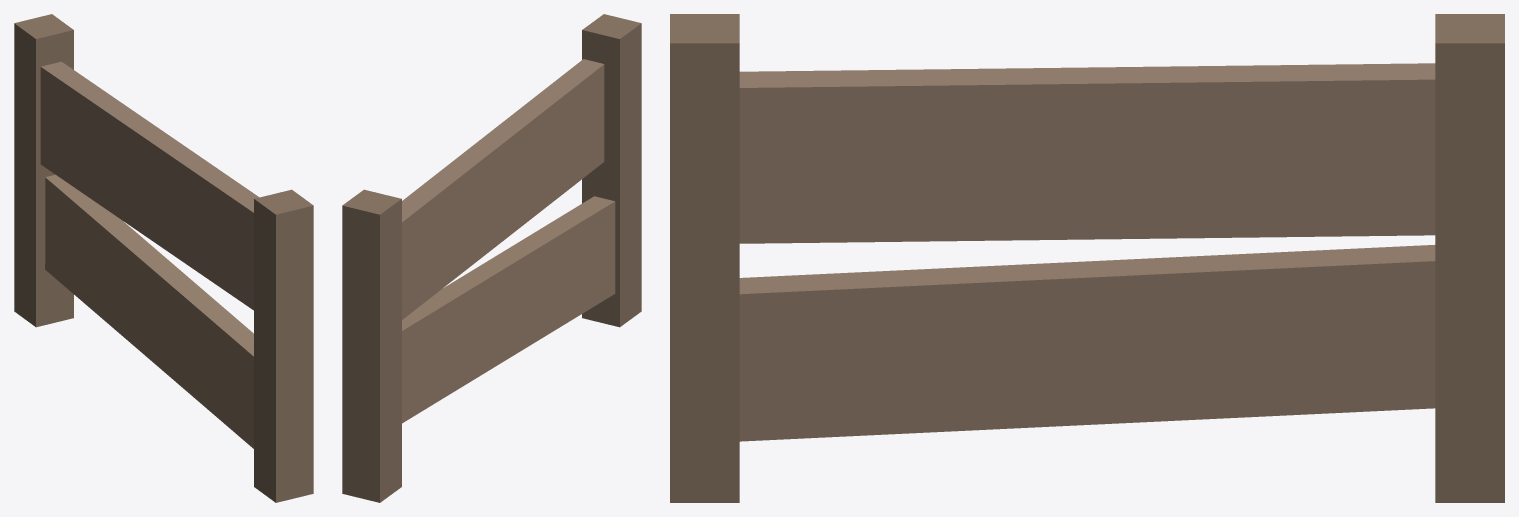
File: Fence Type 1.fbx
3 views of the same model, side by side, from view 1: azimuth 30°, elevation 25°; view 2: azimuth 150°, elevation 25°; view 3: azimuth 270°, elevation 25° (orthographic). The views are drawn at different scales.
Visible parts, largest first — view 1: FenceBoard, FenceBoard1, FencePole, FencePole1; view 2: FenceBoard, FenceBoard1, FencePole1, FencePole; view 3: FenceBoard, FenceBoard1, FencePole1, FencePole.
Boxes of the visible parts, bbox=[...] form: FenceBoard: bbox=[40, 61, 259, 310]; FenceBoard1: bbox=[45, 174, 253, 448]; FencePole: bbox=[254, 189, 313, 502]; FencePole1: bbox=[14, 14, 73, 327]; FenceBoard: bbox=[402, 59, 604, 319]; FenceBoard1: bbox=[402, 196, 615, 423]; FencePole1: bbox=[342, 189, 401, 502]; FencePole: bbox=[582, 14, 641, 327]; FenceBoard: bbox=[739, 63, 1435, 243]; FenceBoard1: bbox=[739, 245, 1435, 441]; FencePole1: bbox=[1435, 14, 1504, 502]; FencePole: bbox=[670, 14, 739, 502].
Bounding box in the file's own units: 0.5 × 3.64 × 6.
